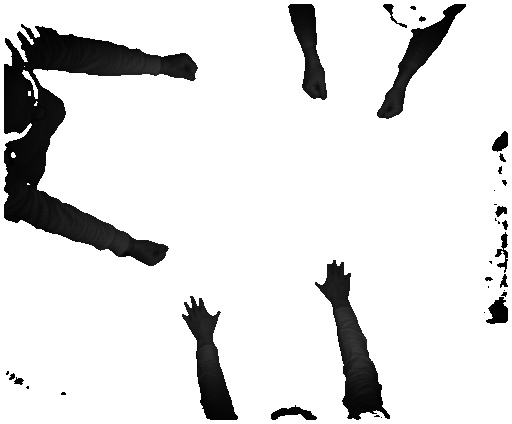fist: (168, 48, 199, 87), (139, 240, 175, 271), (296, 69, 327, 103), (376, 89, 407, 119)
hand: (312, 256, 359, 309), (181, 296, 223, 341)
